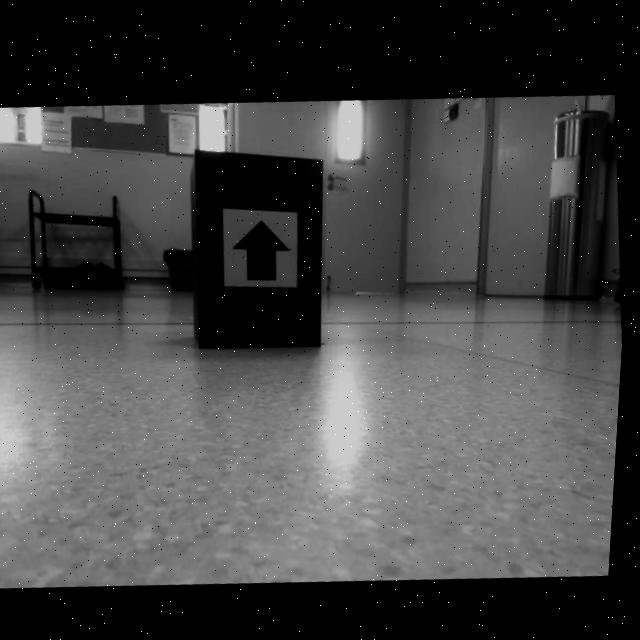UP: (233, 215, 294, 278)
